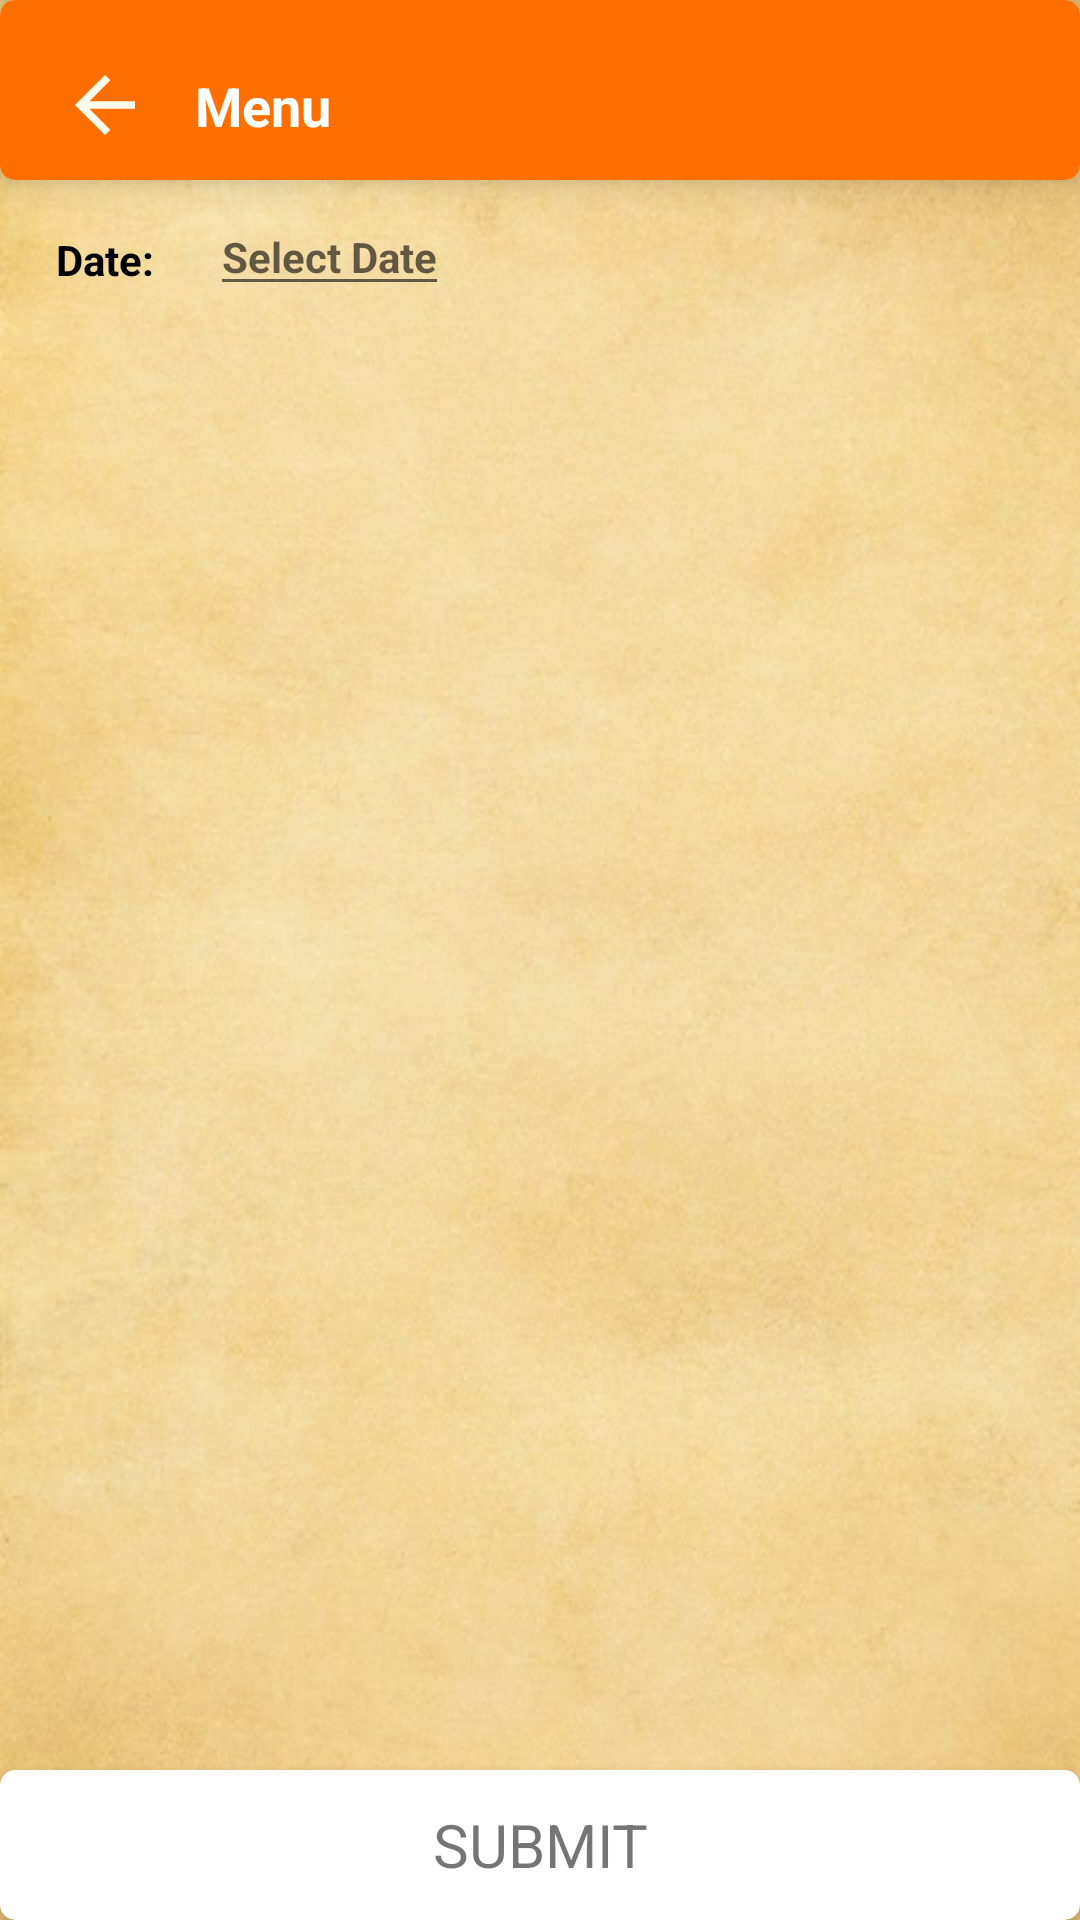

Point at icon controls on the screen. Image size 1080 x 1920, points as (x=x, y=y).
arrow back: (x=105, y=105)
